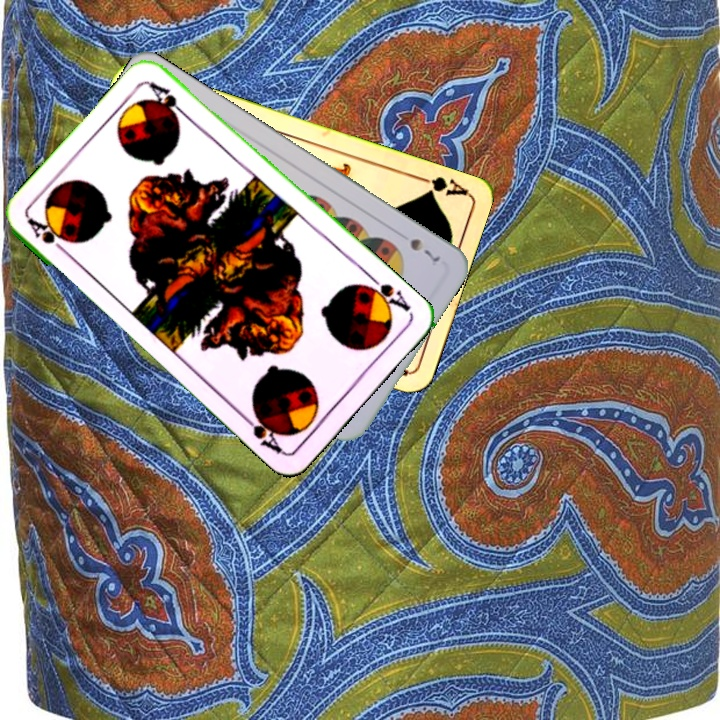GA: (411, 171, 469, 199)
S7: (405, 234, 443, 265)
SA: (358, 271, 414, 316), (23, 214, 75, 259)
